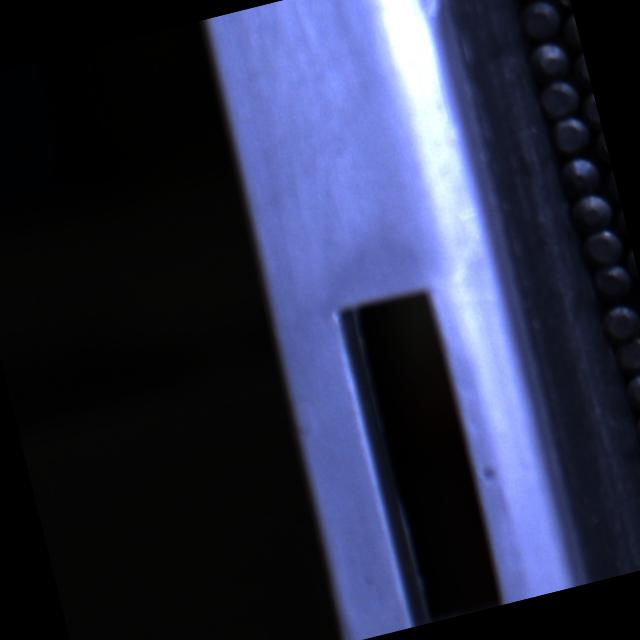tool: (570, 188, 618, 234), (556, 152, 604, 198), (536, 76, 582, 120), (526, 40, 571, 84), (549, 110, 593, 154), (580, 226, 626, 268), (518, 0, 565, 40), (598, 299, 640, 342), (598, 265, 640, 306), (614, 332, 640, 374), (560, 10, 582, 52), (579, 90, 602, 130), (572, 50, 592, 90), (624, 367, 640, 412), (592, 128, 610, 166), (550, 0, 571, 9)
